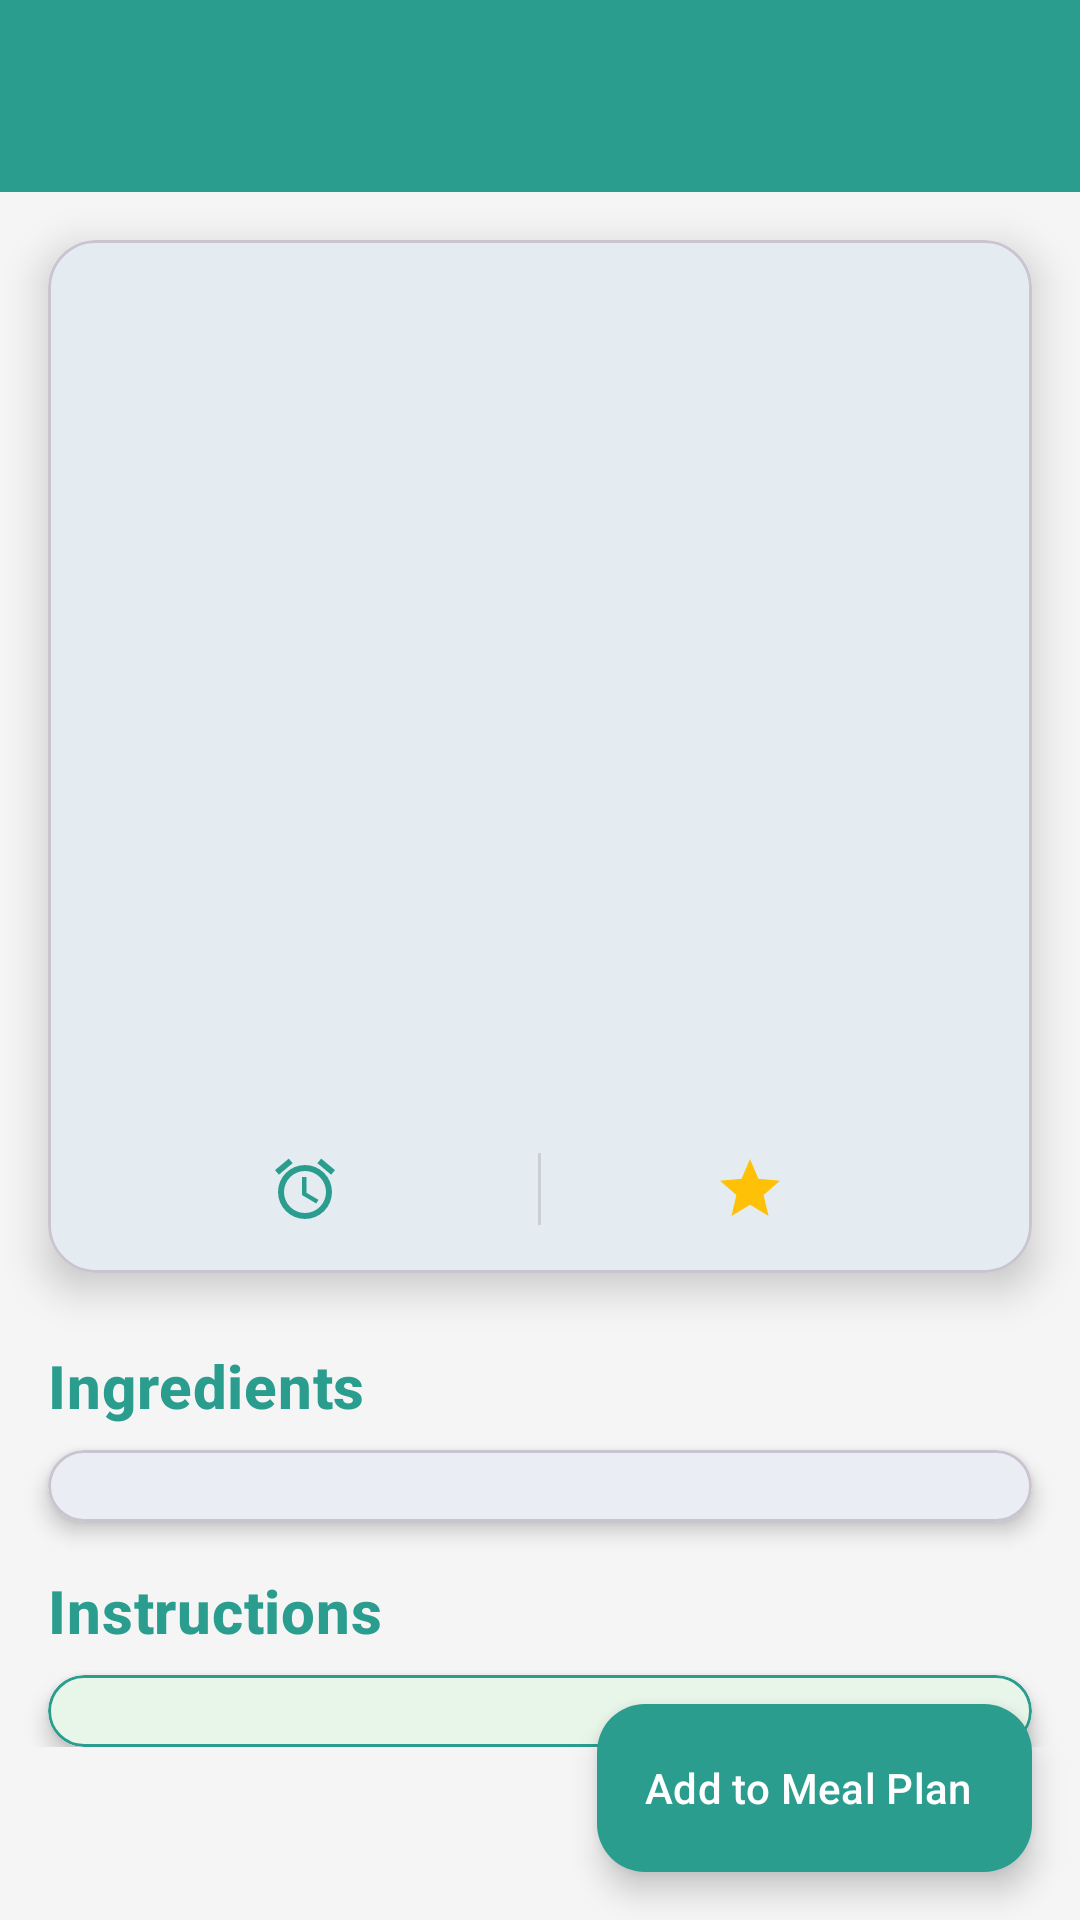

Icons on this 1080*1920 Android screen, each with the point to tap as [x,y]:
star: [750,1187]
timer: [305,1189]
